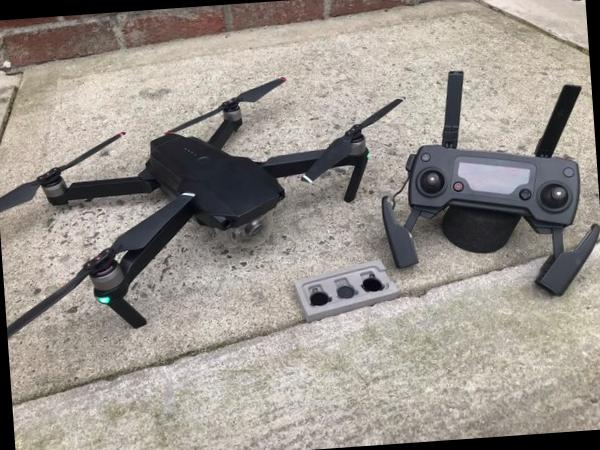drone: (0, 62, 430, 343)
